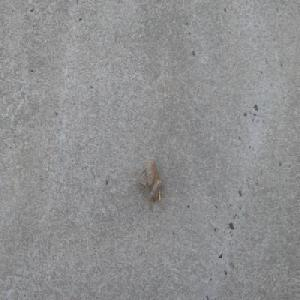Rock: (135, 156, 162, 202)
